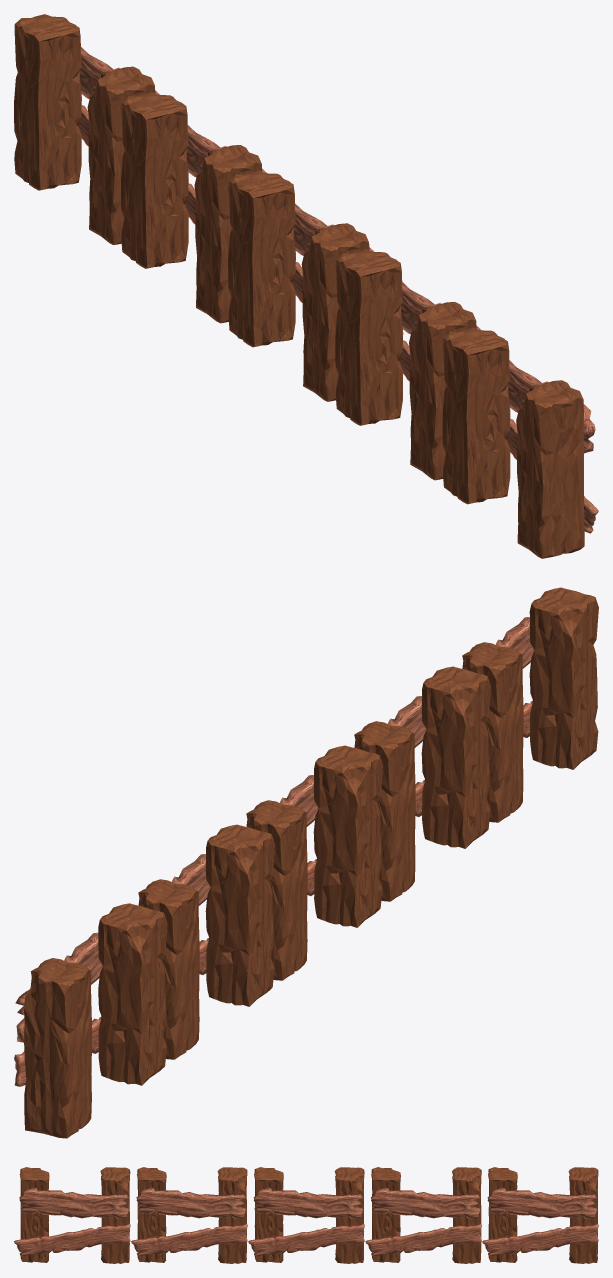
The model's file is fences_five.fbx.
The picture shows the model from 3 angles, top to bottom: view 1: azimuth 30°, elevation 25°; view 2: azimuth 150°, elevation 25°; view 3: azimuth 270°, elevation 25°; orthographic projection. The views are drawn at different scales.
Visible parts, largest first — view 1: Plank2.002, Plank2, Plank2.001, Plank2.003, Plank2.004, Plank1.002, Plank1, Plank1.004, Plank1.001, Plank1.003, Wood2.002, Wood2.004 (+3 smaller); view 2: Plank1.003, Plank1.002, Plank1.001, Plank1.004, Plank1, Plank2.003, Plank2, Plank2.002, Plank2.004, Plank2.001, Wood2.003, Wood2.001 (+3 smaller); view 3: Wood2.002, Wood2.001, Wood2.004, Wood2, Wood2.003, Wood1.001, Wood1, Wood1.003, Wood1.004, Wood1.002, Plank2.001, Plank2.002 (+8 smaller).
Boxes of the visible parts, x1,y1,x2,y2 form: Plank2.002: (442,327,510,504); Plank2: (228,171,295,347); Plank2.001: (121,92,188,268); Plank2.003: (14,14,81,190); Plank2.004: (335,249,403,425); Plank1.002: (516,380,584,558); Plank1: (301,223,369,401); Plank1.004: (409,302,476,480); Plank1.001: (194,145,261,323); Plank1.003: (87,66,155,244); Wood2.002: (507,360,595,453); Wood2.004: (400,282,481,334); Plank1.003: (98,903,167,1085); Plank1.002: (529,587,598,769); Plank1.001: (205,824,274,1006); Plank1.004: (421,666,490,848); Plank1: (313,745,382,927); Plank2.003: (23,958,92,1138); Plank2: (246,800,307,980); Plank2.002: (462,642,523,822); Plank2.004: (354,721,415,901); Plank2.001: (138,879,199,1059); Wood2.003: (15,932,102,1042); Wood2.001: (171,854,210,905); Wood2.002: (19,1188,128,1219); Wood2.001: (370,1188,479,1219); Wood2.004: (136,1188,245,1219); Wood2: (253,1188,362,1219); Wood2.003: (487,1188,596,1219); Wood1.001: (365,1224,481,1256); Wood1: (248,1224,364,1256); Wood1.003: (482,1224,598,1256); Wood1.004: (131,1224,247,1256); Wood1.002: (14,1224,130,1256); Plank2.001: (452,1167,481,1263); Plank2.002: (100,1167,130,1263).
Size of the model in its own units: 311 by 808 by 4995.
